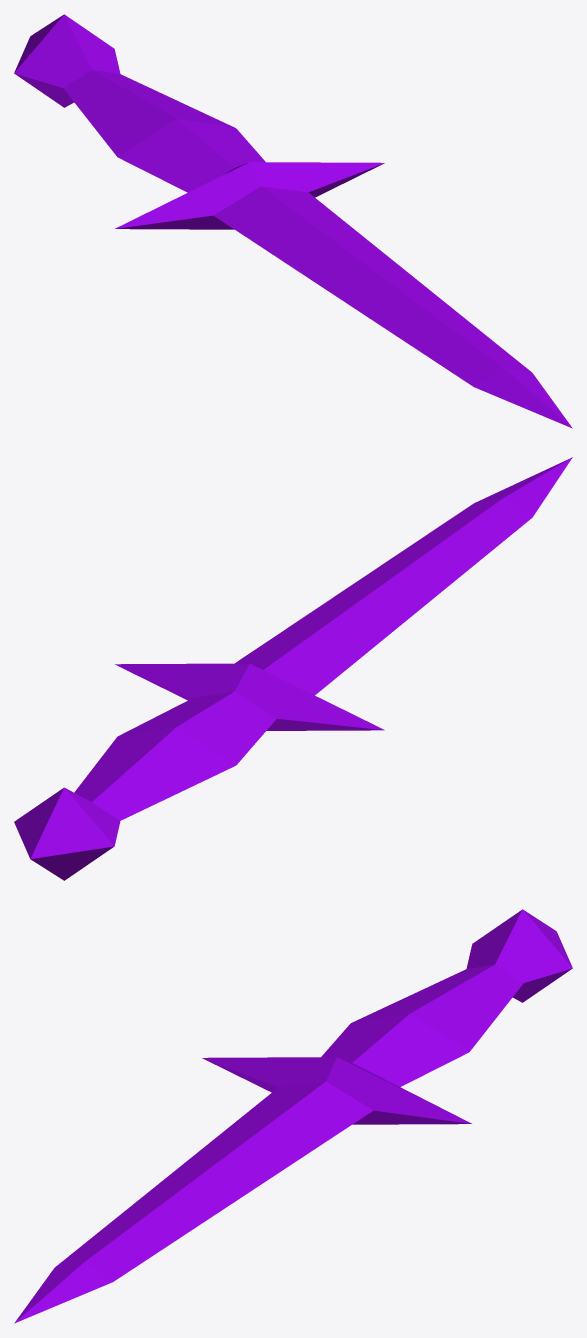
Rendered from dagger_debug.glb.
3 views of the same model, one above another, from view 1: azimuth 30°, elevation 25°; view 2: azimuth 150°, elevation 25°; view 3: azimuth 330°, elevation 25° (orthographic).
Parts seen in each view (by area): view 1: prop_dagger.001; view 2: prop_dagger.001; view 3: prop_dagger.001.
Boxes of the visible parts, left/top/right/bottom form: prop_dagger.001: left=14, top=14, right=572, bottom=428; prop_dagger.001: left=14, top=457, right=572, bottom=880; prop_dagger.001: left=14, top=909, right=572, bottom=1323.
Bounding box in the file's own units: 0.1584 × 0.0522 × 0.5487.
